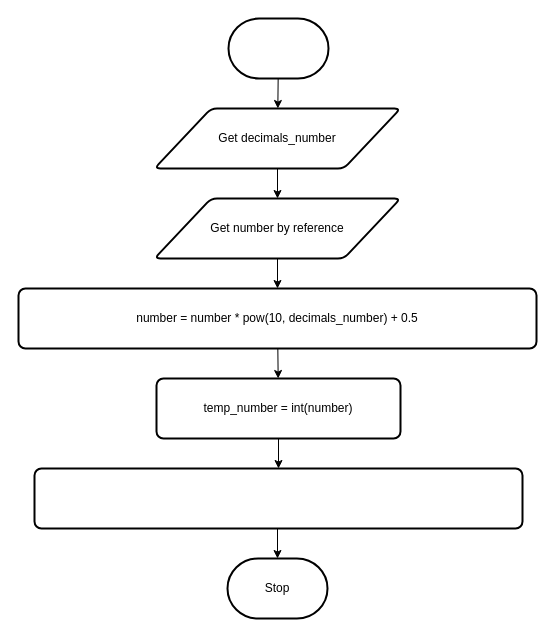
Image size: 554x636. Some labels were removed from this diagram. Each missing label, with the centre of its shape:
"number = float(temp_number) / pow(10, decimals_number)" goes at (x=278, y=498).
"Start" goes at (x=278, y=48).
